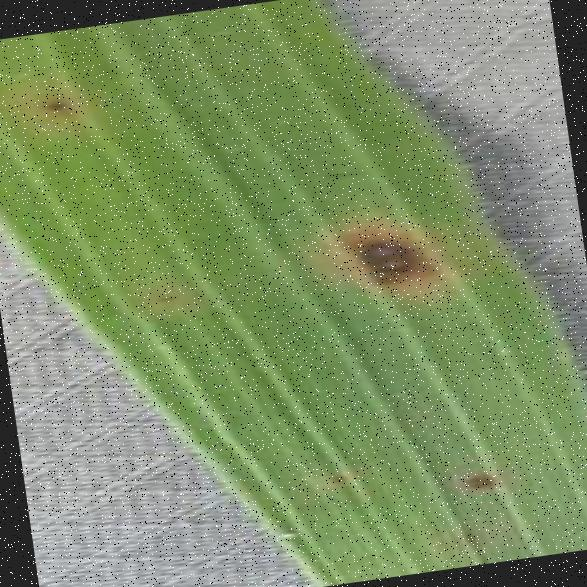Brown_Spot: (304, 190, 466, 326), (304, 151, 368, 189), (444, 460, 501, 497), (314, 461, 358, 494), (30, 86, 74, 118), (449, 522, 487, 554), (142, 280, 182, 310)
